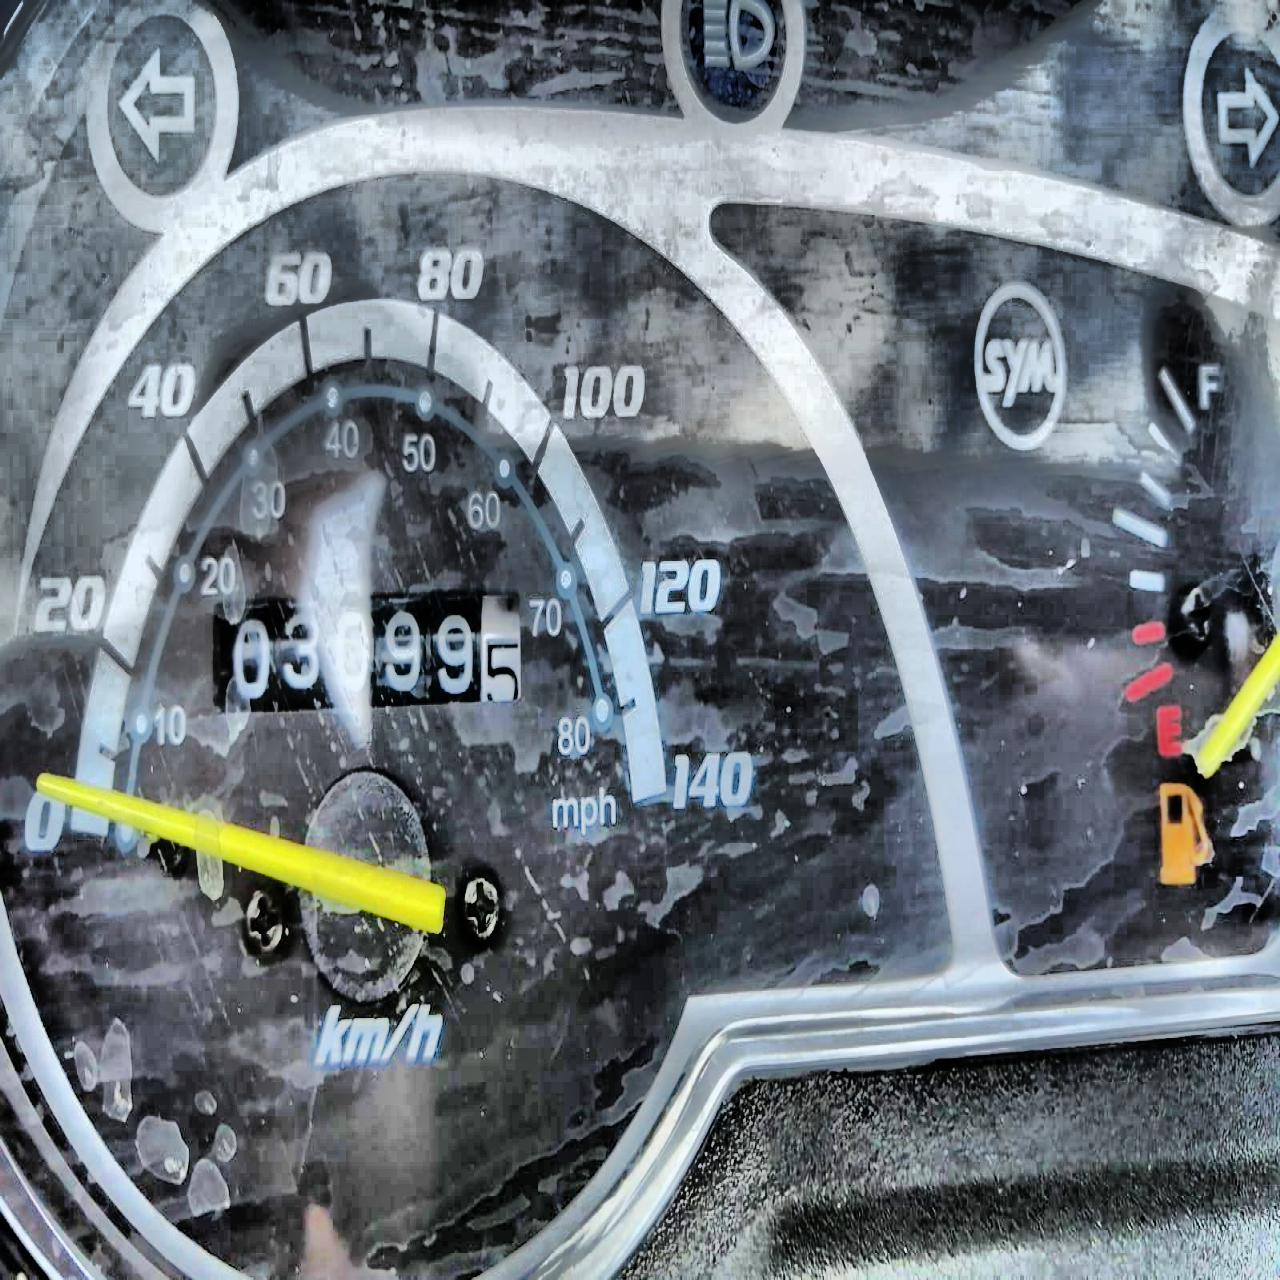0: (231, 609, 272, 699), (333, 605, 372, 695)
3: (282, 605, 322, 695)
5: (484, 628, 520, 708)
9: (434, 604, 475, 698), (384, 604, 422, 695)
odometer: (207, 588, 530, 711)
